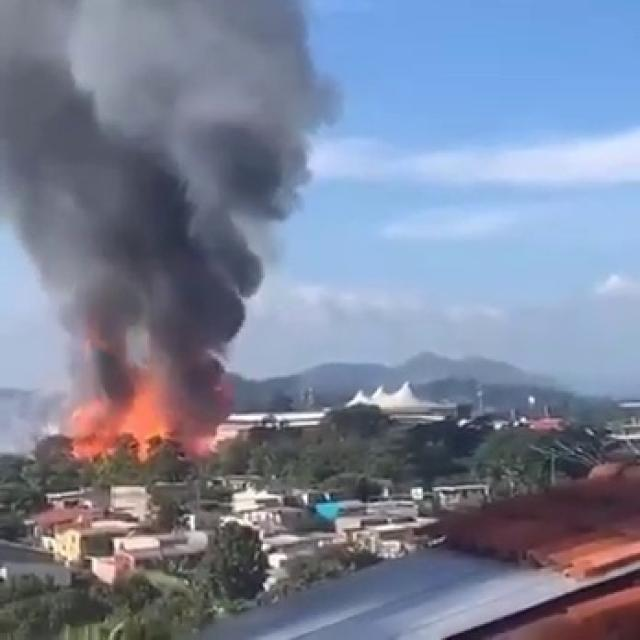Fire: (58, 380, 238, 454)
Smoke: (12, 6, 329, 372)
